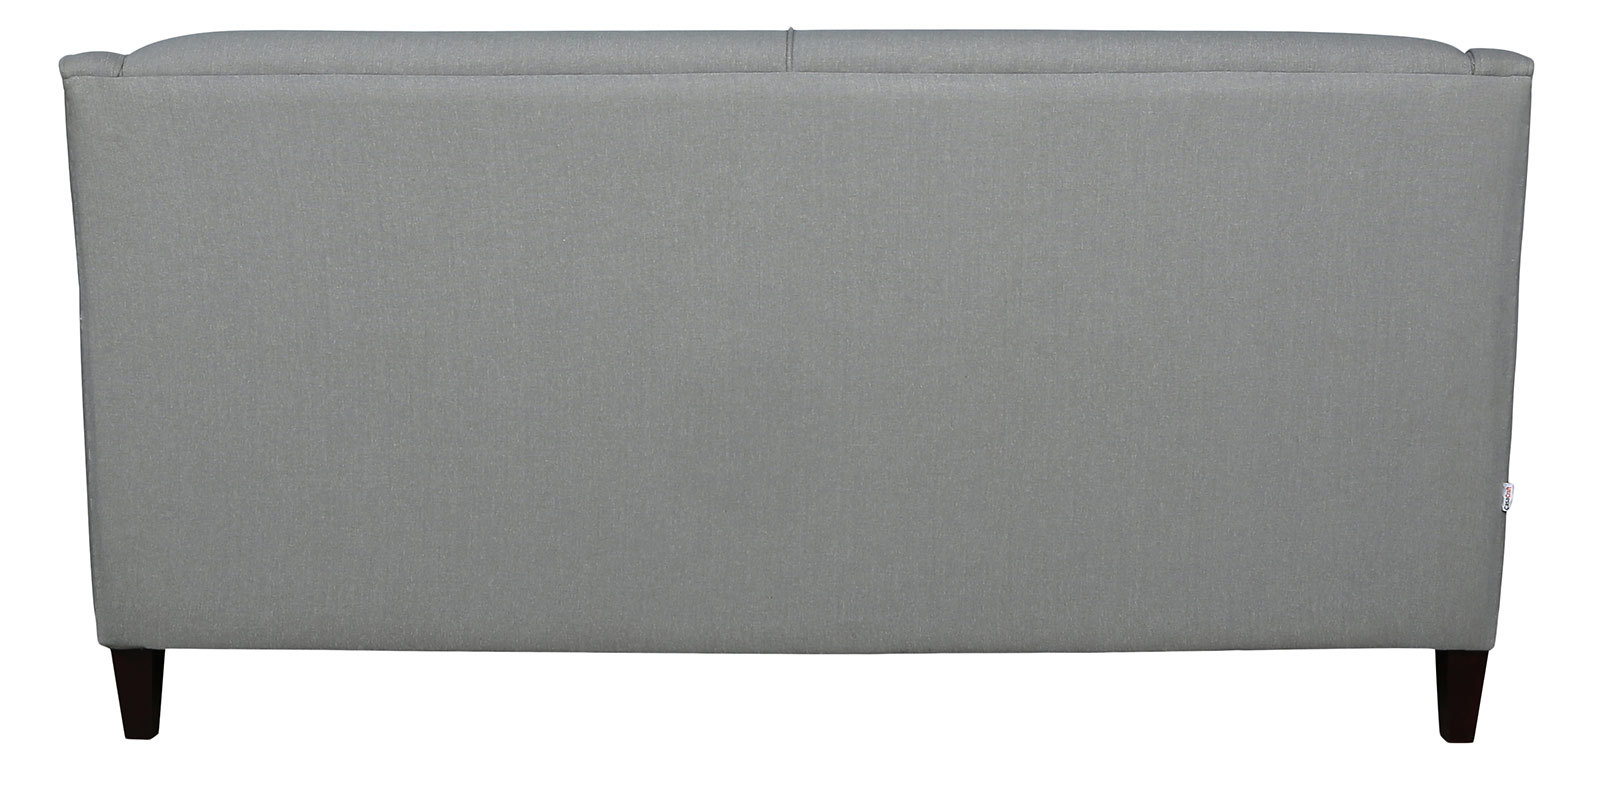Oscar Three Seater Sofa in Ash Grey Colour by CasaCraft: (57, 21, 1533, 744)
